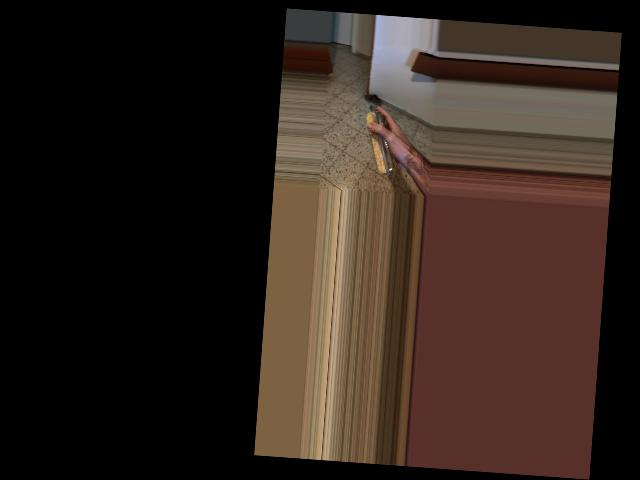cheese: (354, 100, 415, 169)
